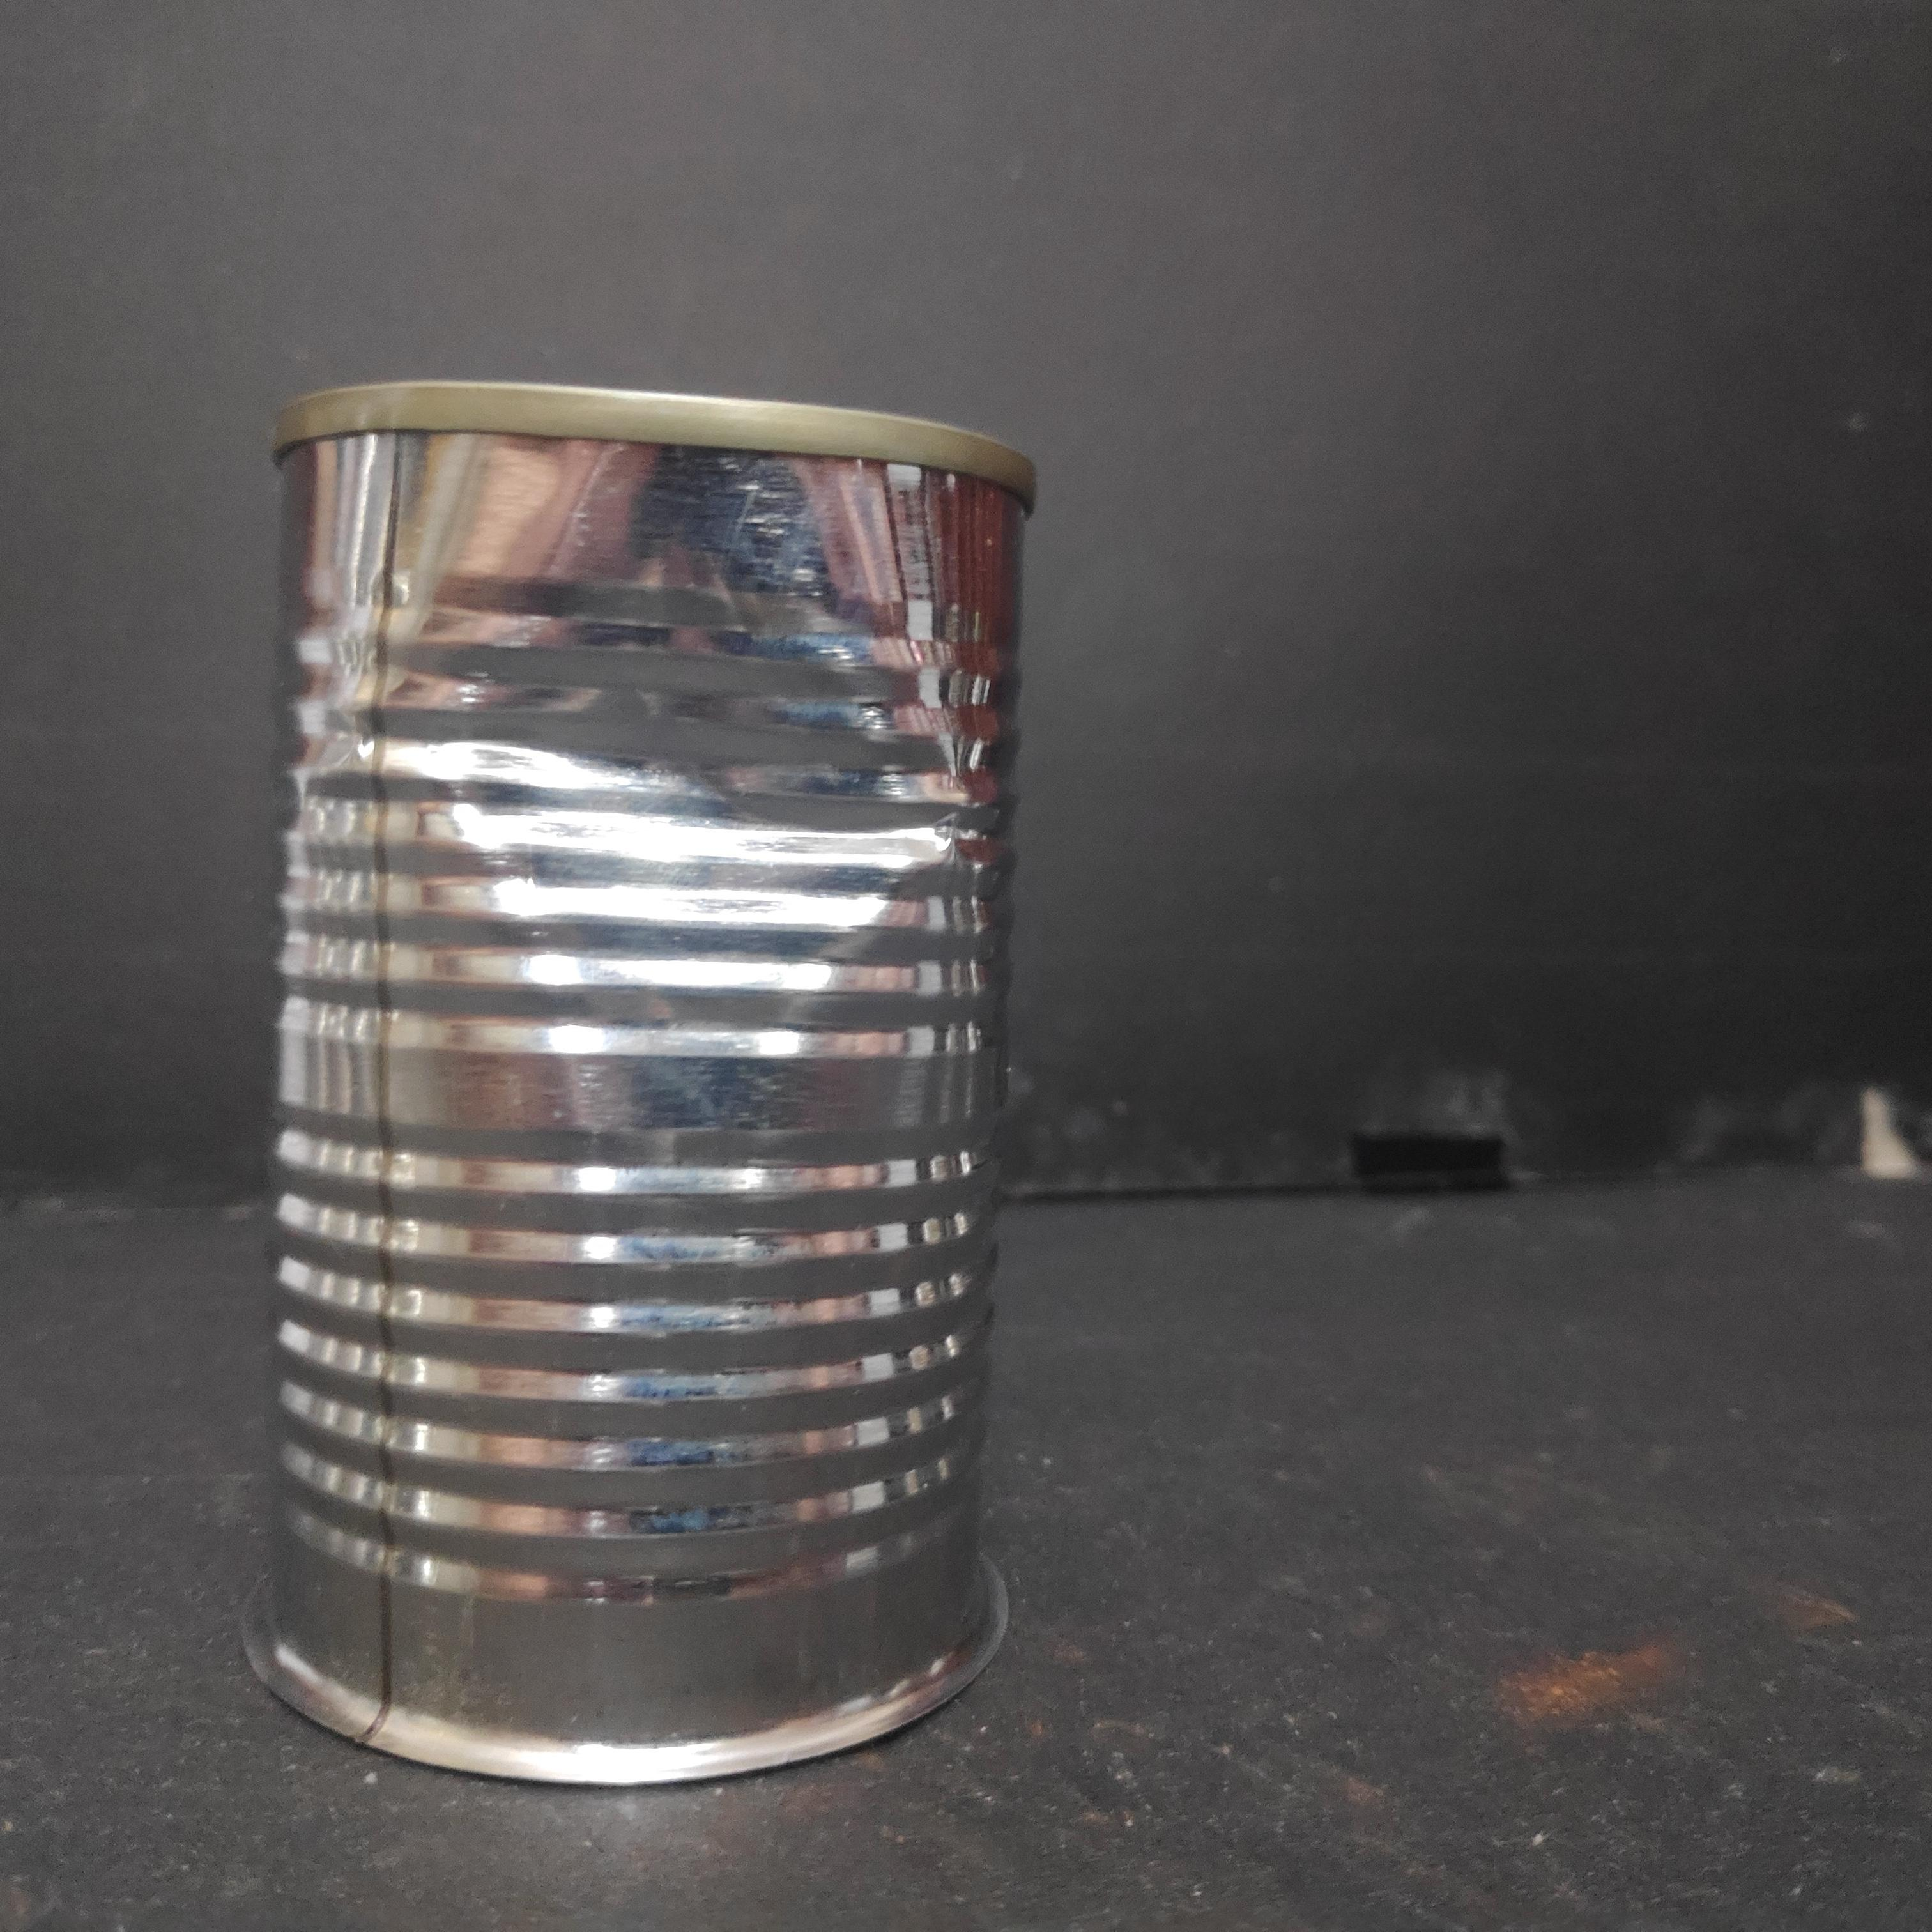Minor Defect: (253, 377, 1042, 1799)
